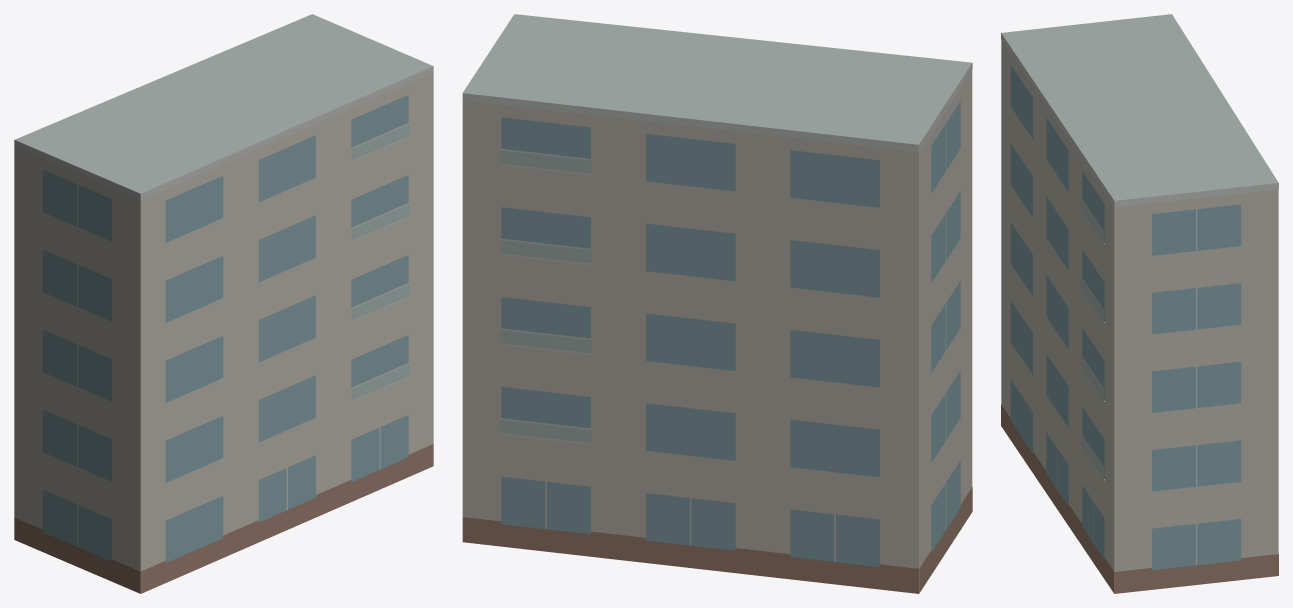
The model's file is survey-upis-32882837.glb.
3 renders of one model, left to right at view 1: azimuth 30°, elevation 25°; view 2: azimuth 150°, elevation 25°; view 3: azimuth 270°, elevation 25°, orthographic. The views are drawn at different scales.
Visible parts, largest first — view 1: survey-upis-32882837.tmp; view 2: survey-upis-32882837.tmp; view 3: survey-upis-32882837.tmp.
Boxes of the visible parts, box(x1,y1,x2,y2) form: survey-upis-32882837.tmp: box(14, 14, 433, 593); survey-upis-32882837.tmp: box(462, 14, 972, 593); survey-upis-32882837.tmp: box(1001, 14, 1278, 593).
Size of the model in its own units: 15.1 by 14.8 by 9.49.
